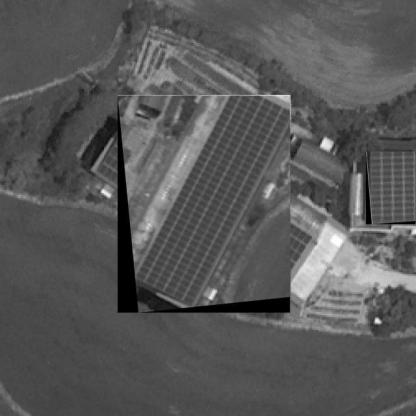solar-pv-panel: (132, 96, 290, 308), (371, 151, 416, 222)
